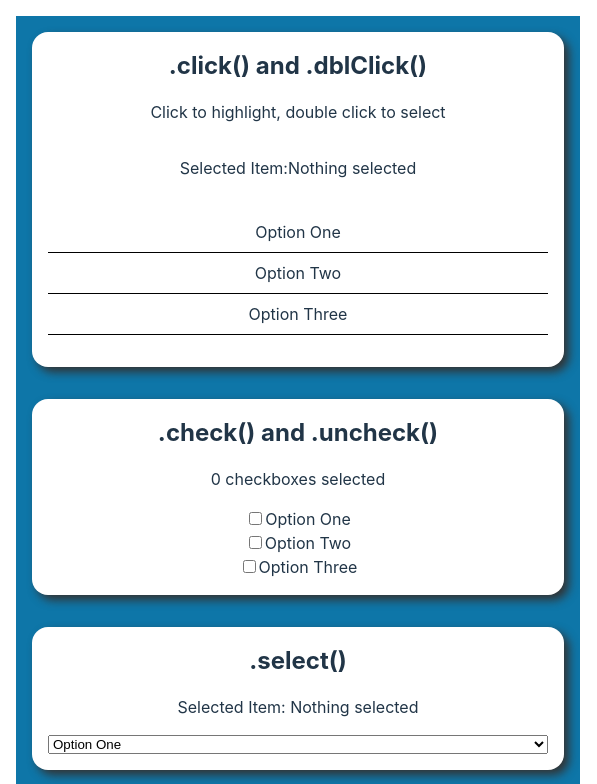
Scenario: basic page interactions › should sets the header text name when double clicked
The width and height of the screenshot is (597, 784).
Double-click the list item "Option One" at (298,233), box x1=48 y1=212 x2=548 y2=253
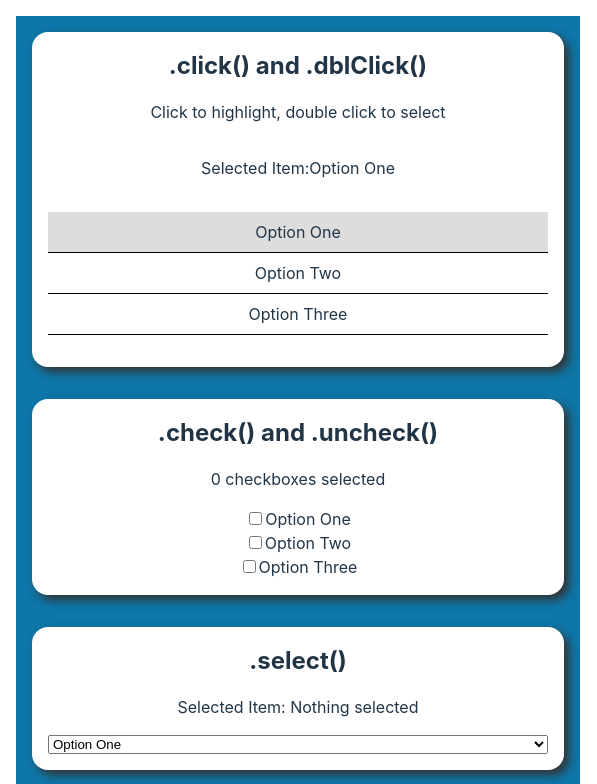
expect the text with test id "box-1-selected-name" reads "Option One": met, box x1=309 y1=158 x2=395 y2=178
Double-click the list item "Option Two" at (298,274), box x1=48 y1=253 x2=548 y2=294
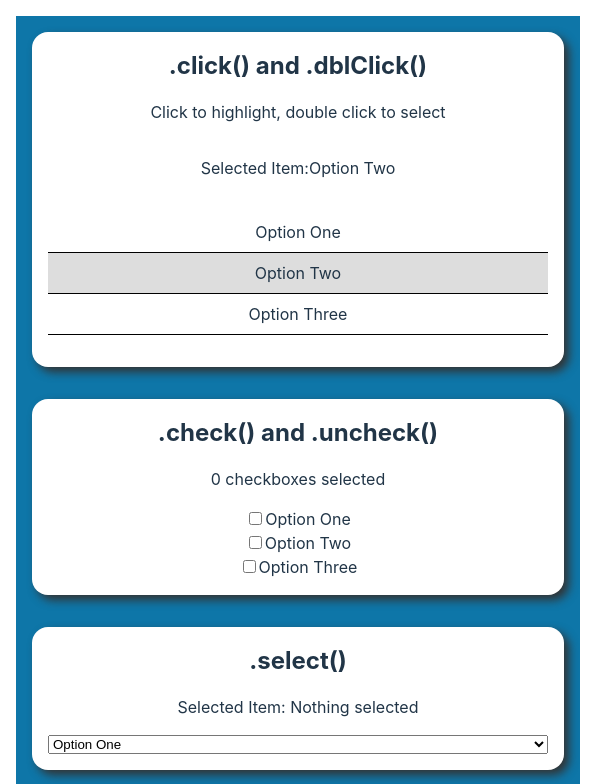
expect the text with test id "box-1-selected-name" reads "Option Two": met, box x1=309 y1=158 x2=395 y2=178
Double-click the list item "Option Three" at (298,315), box x1=48 y1=294 x2=548 y2=335
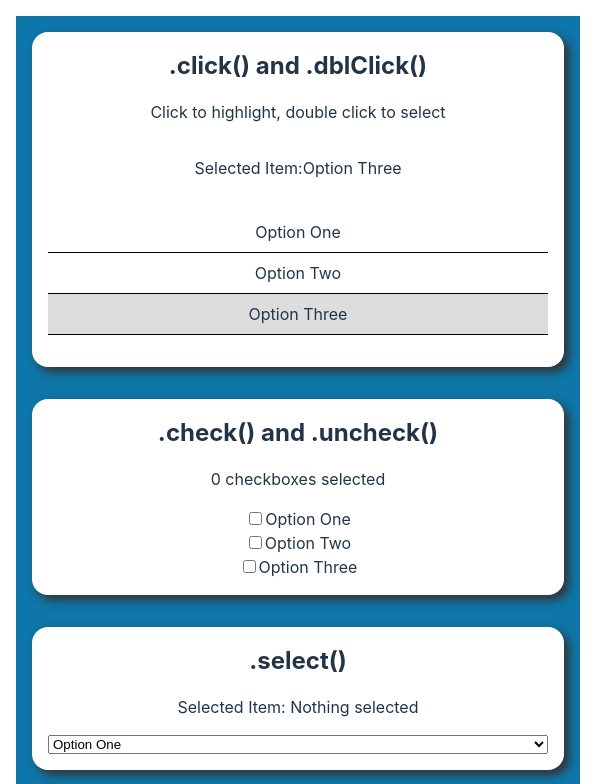
expect the text with test id "box-1-selected-name" reads "Option Three": met, box x1=303 y1=158 x2=402 y2=178
